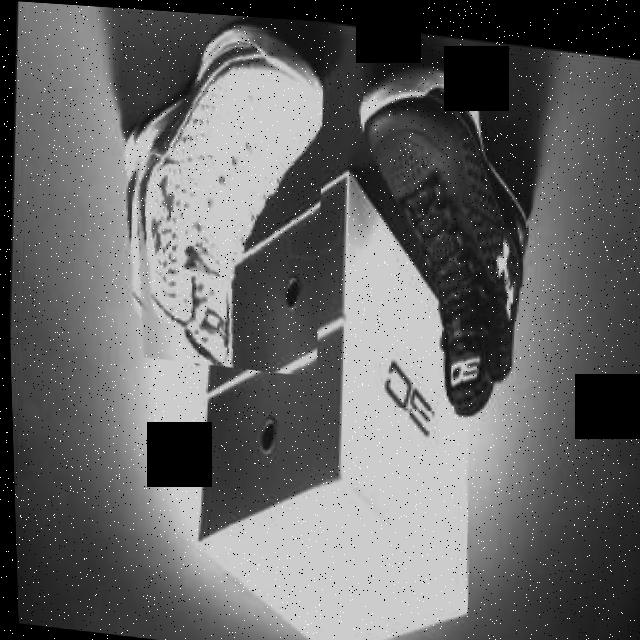shoe: (110, 9, 332, 374), (341, 57, 540, 416)
